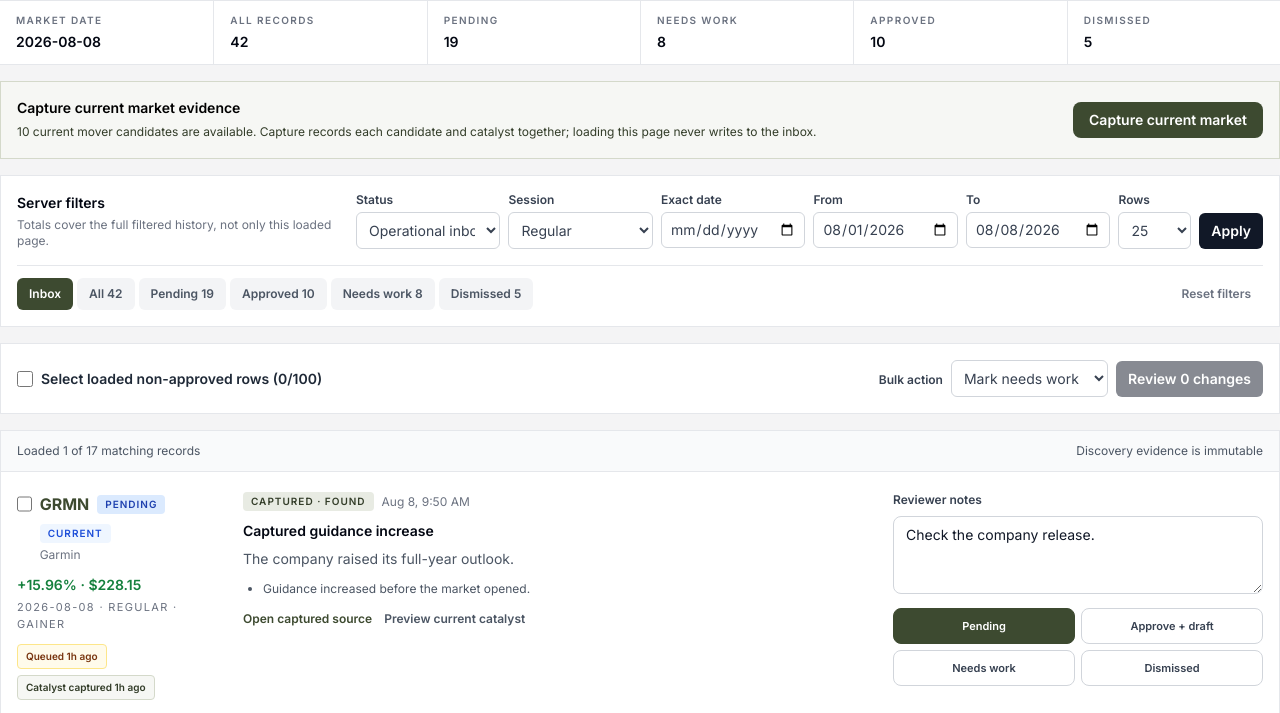
WhyMovedReviewQueue › captures current-market evidence only after the operator requests it
Click the button "Capture current market". click: point(1168, 120)
box: [1073,102,1263,138]
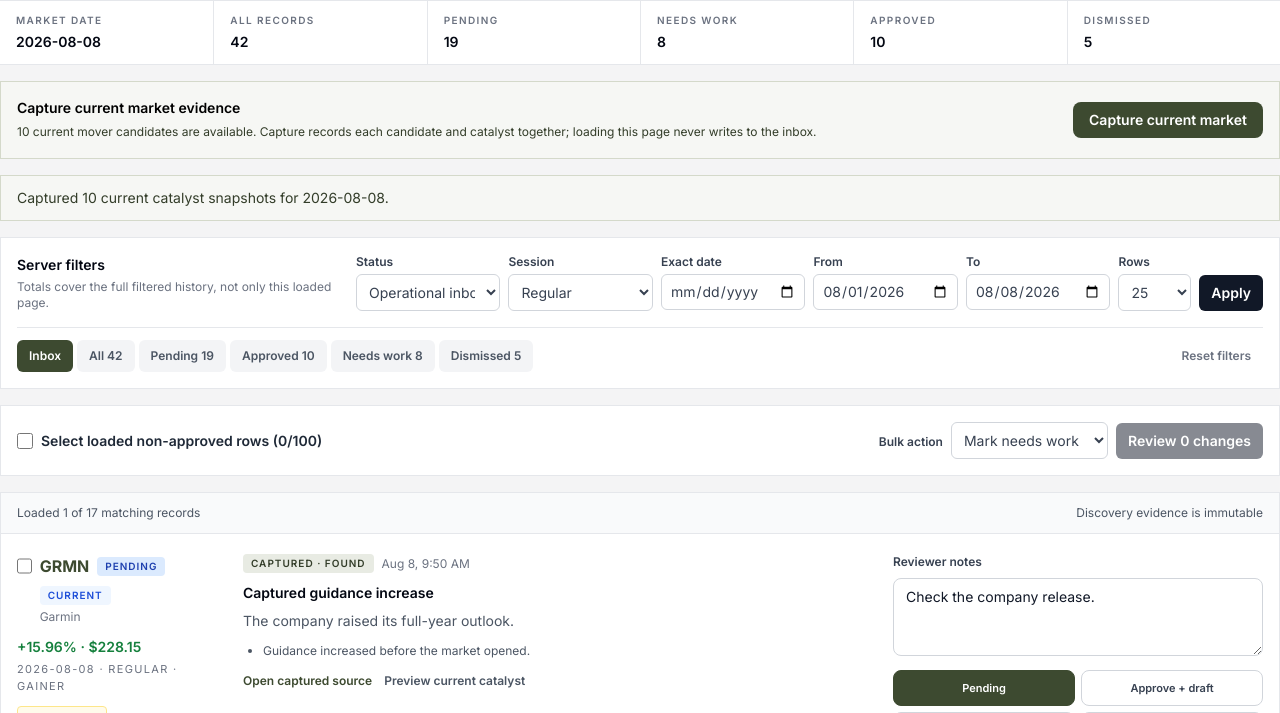
Result: the text "Captured 10 current catalyst snapshots for 2026-08-08." is shown at [0,175,1279,221]
